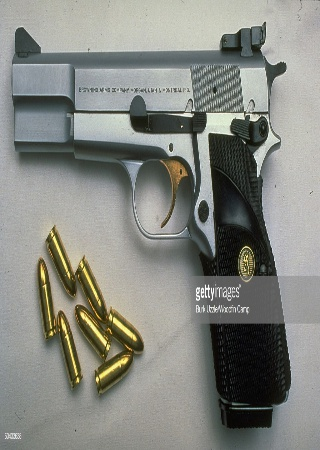handgun: (10, 25, 297, 408)
